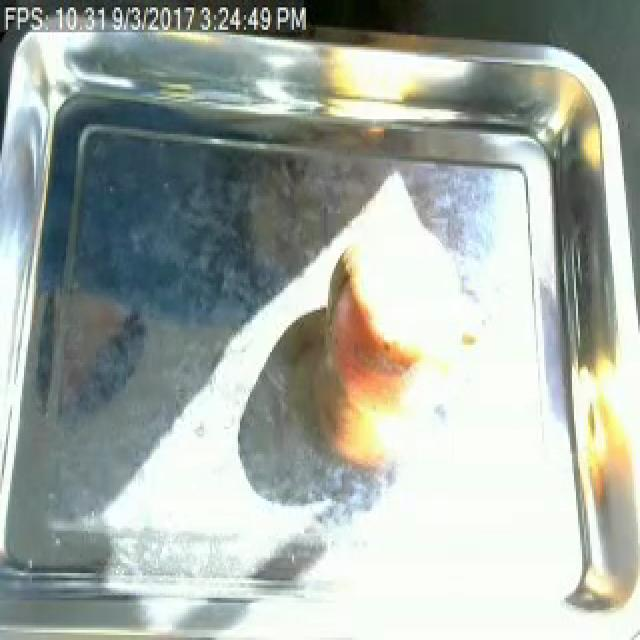fruit: (302, 220, 498, 432)
